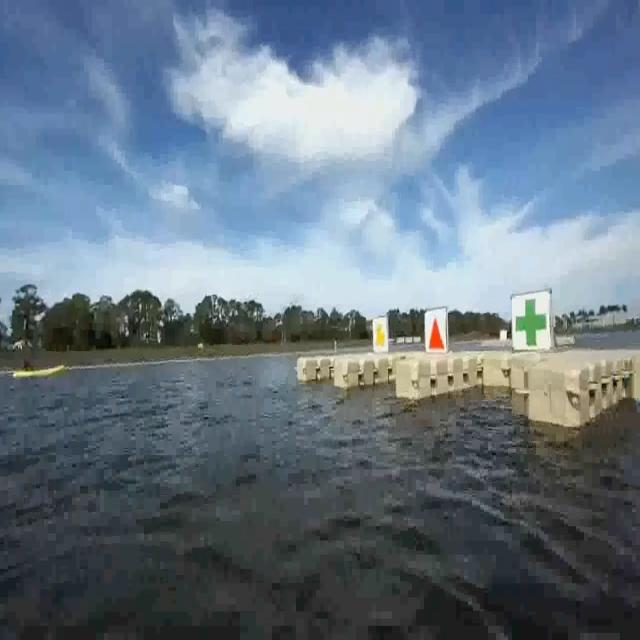blue-cross: (512, 293, 550, 348)
red-dot: (424, 311, 448, 348)
yellow-duck: (374, 322, 390, 353)
